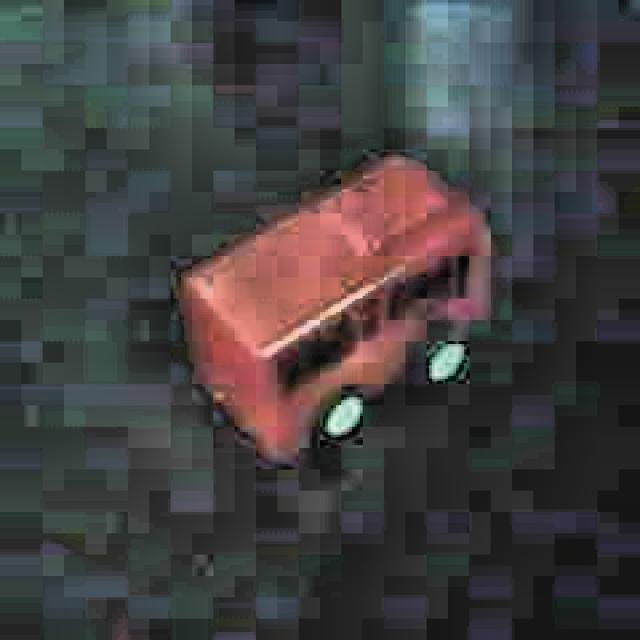bus: (172, 147, 502, 470)
